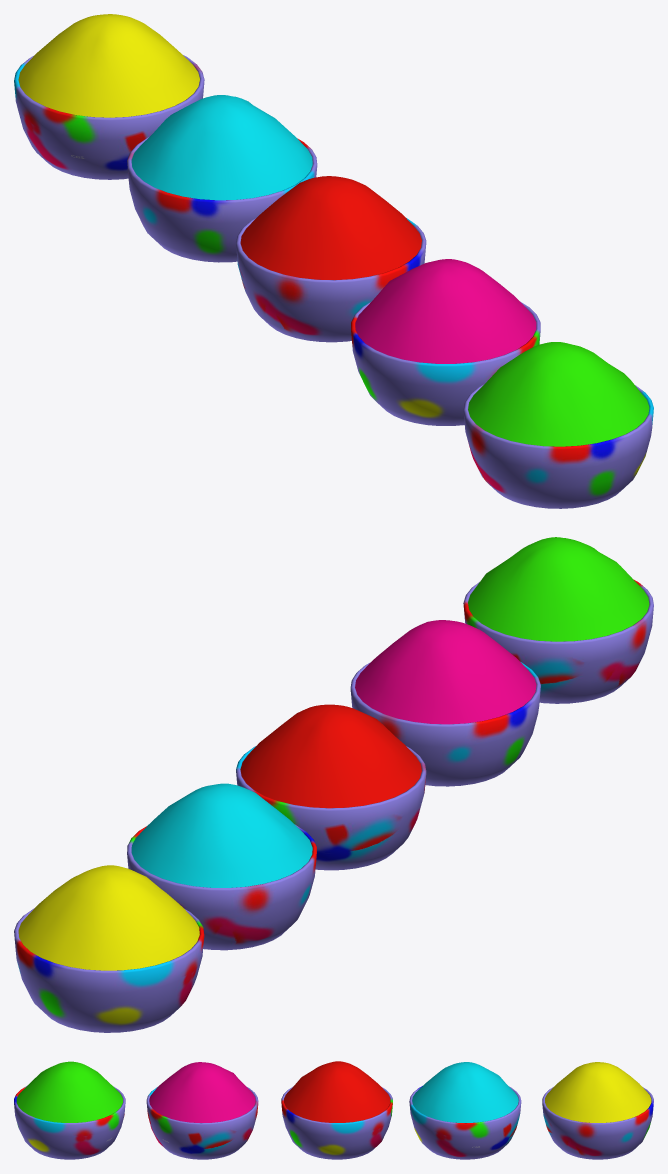
Rendered from Bowl.fbx.
3 renders of one model, top to bottom at view 1: azimuth 30°, elevation 25°; view 2: azimuth 150°, elevation 25°; view 3: azimuth 270°, elevation 25°, orthographic. The views are drawn at different scales.
Parts seen in each view (by area): view 1: Sphere.003, Sphere, Sphere.004, Sphere.002, Sphere.001; view 2: Sphere.002, Sphere.004, Sphere.003, Sphere.001, Sphere; view 3: Sphere.004, Sphere, Sphere.003, Sphere.002, Sphere.001.
Boxes of the visible parts, x1,y1,x2,y2 form: Sphere.003: (463, 342, 653, 508); Sphere: (236, 176, 426, 342); Sphere.004: (351, 259, 540, 425); Sphere.002: (14, 14, 204, 179); Sphere.001: (127, 95, 317, 262); Sphere.002: (14, 865, 204, 1032); Sphere.004: (350, 620, 540, 786); Sphere.003: (463, 537, 653, 703); Sphere.001: (127, 783, 316, 950); Sphere: (236, 704, 426, 870); Sphere.004: (146, 1062, 258, 1159); Sphere: (281, 1061, 392, 1159); Sphere.003: (14, 1061, 125, 1159); Sphere.002: (542, 1062, 653, 1159); Sphere.001: (409, 1062, 521, 1159).
Size of the model in its own units: 200 by 164 by 1142.
6 materials, 1 textured.
